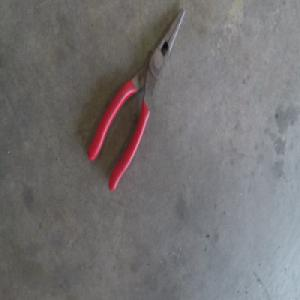Pliers: (81, 11, 181, 194)
